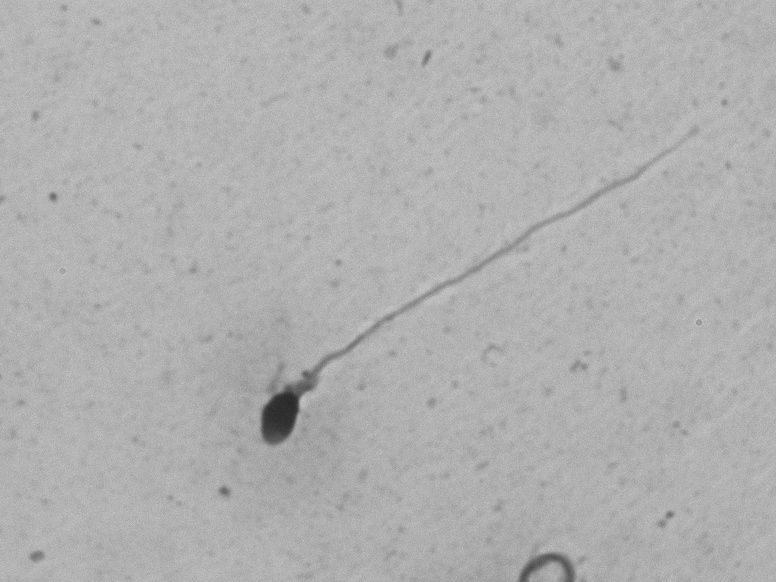Abnormal: (164, 104, 737, 475)
